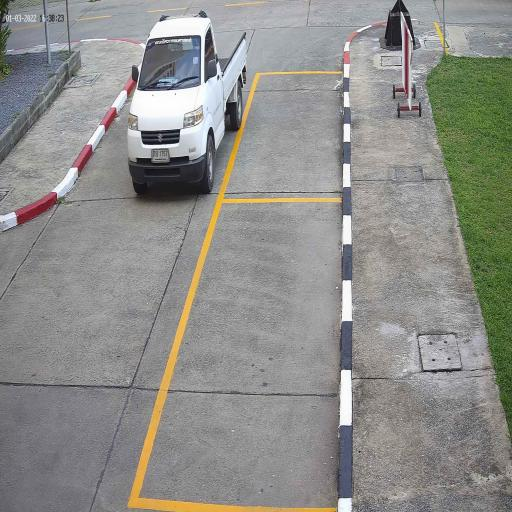car: (126, 15, 249, 199)
